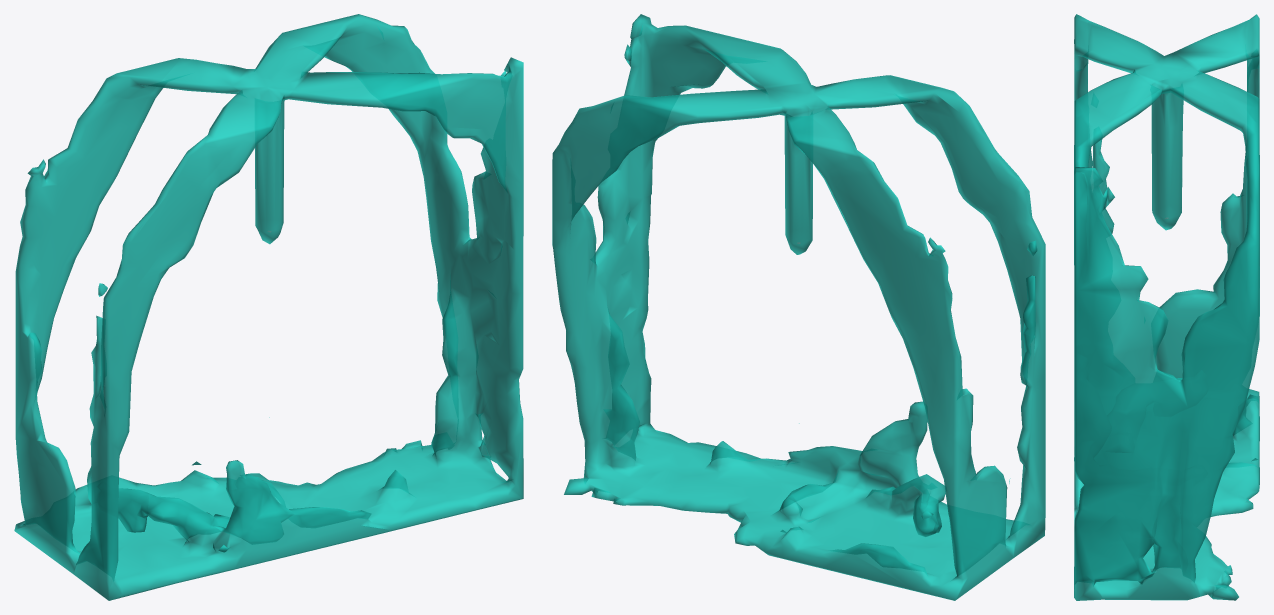
3 views of the same model, side by side, from view 1: azimuth 30°, elevation 25°; view 2: azimuth 150°, elevation 25°; view 3: azimuth 270°, elevation 25° (orthographic). The views are drawn at different scales.
Parts seen in each view (by area): view 1: Liquid_Domain; view 2: Liquid_Domain; view 3: Liquid_Domain.
Boxes of the visible parts, x1=… form: Liquid_Domain: x1=14, y1=14, x2=523, y2=600; Liquid_Domain: x1=552, y1=14, x2=1045, y2=600; Liquid_Domain: x1=1074, y1=14, x2=1259, y2=600.
Bounding box in the file's own units: 885 × 885 × 345.
